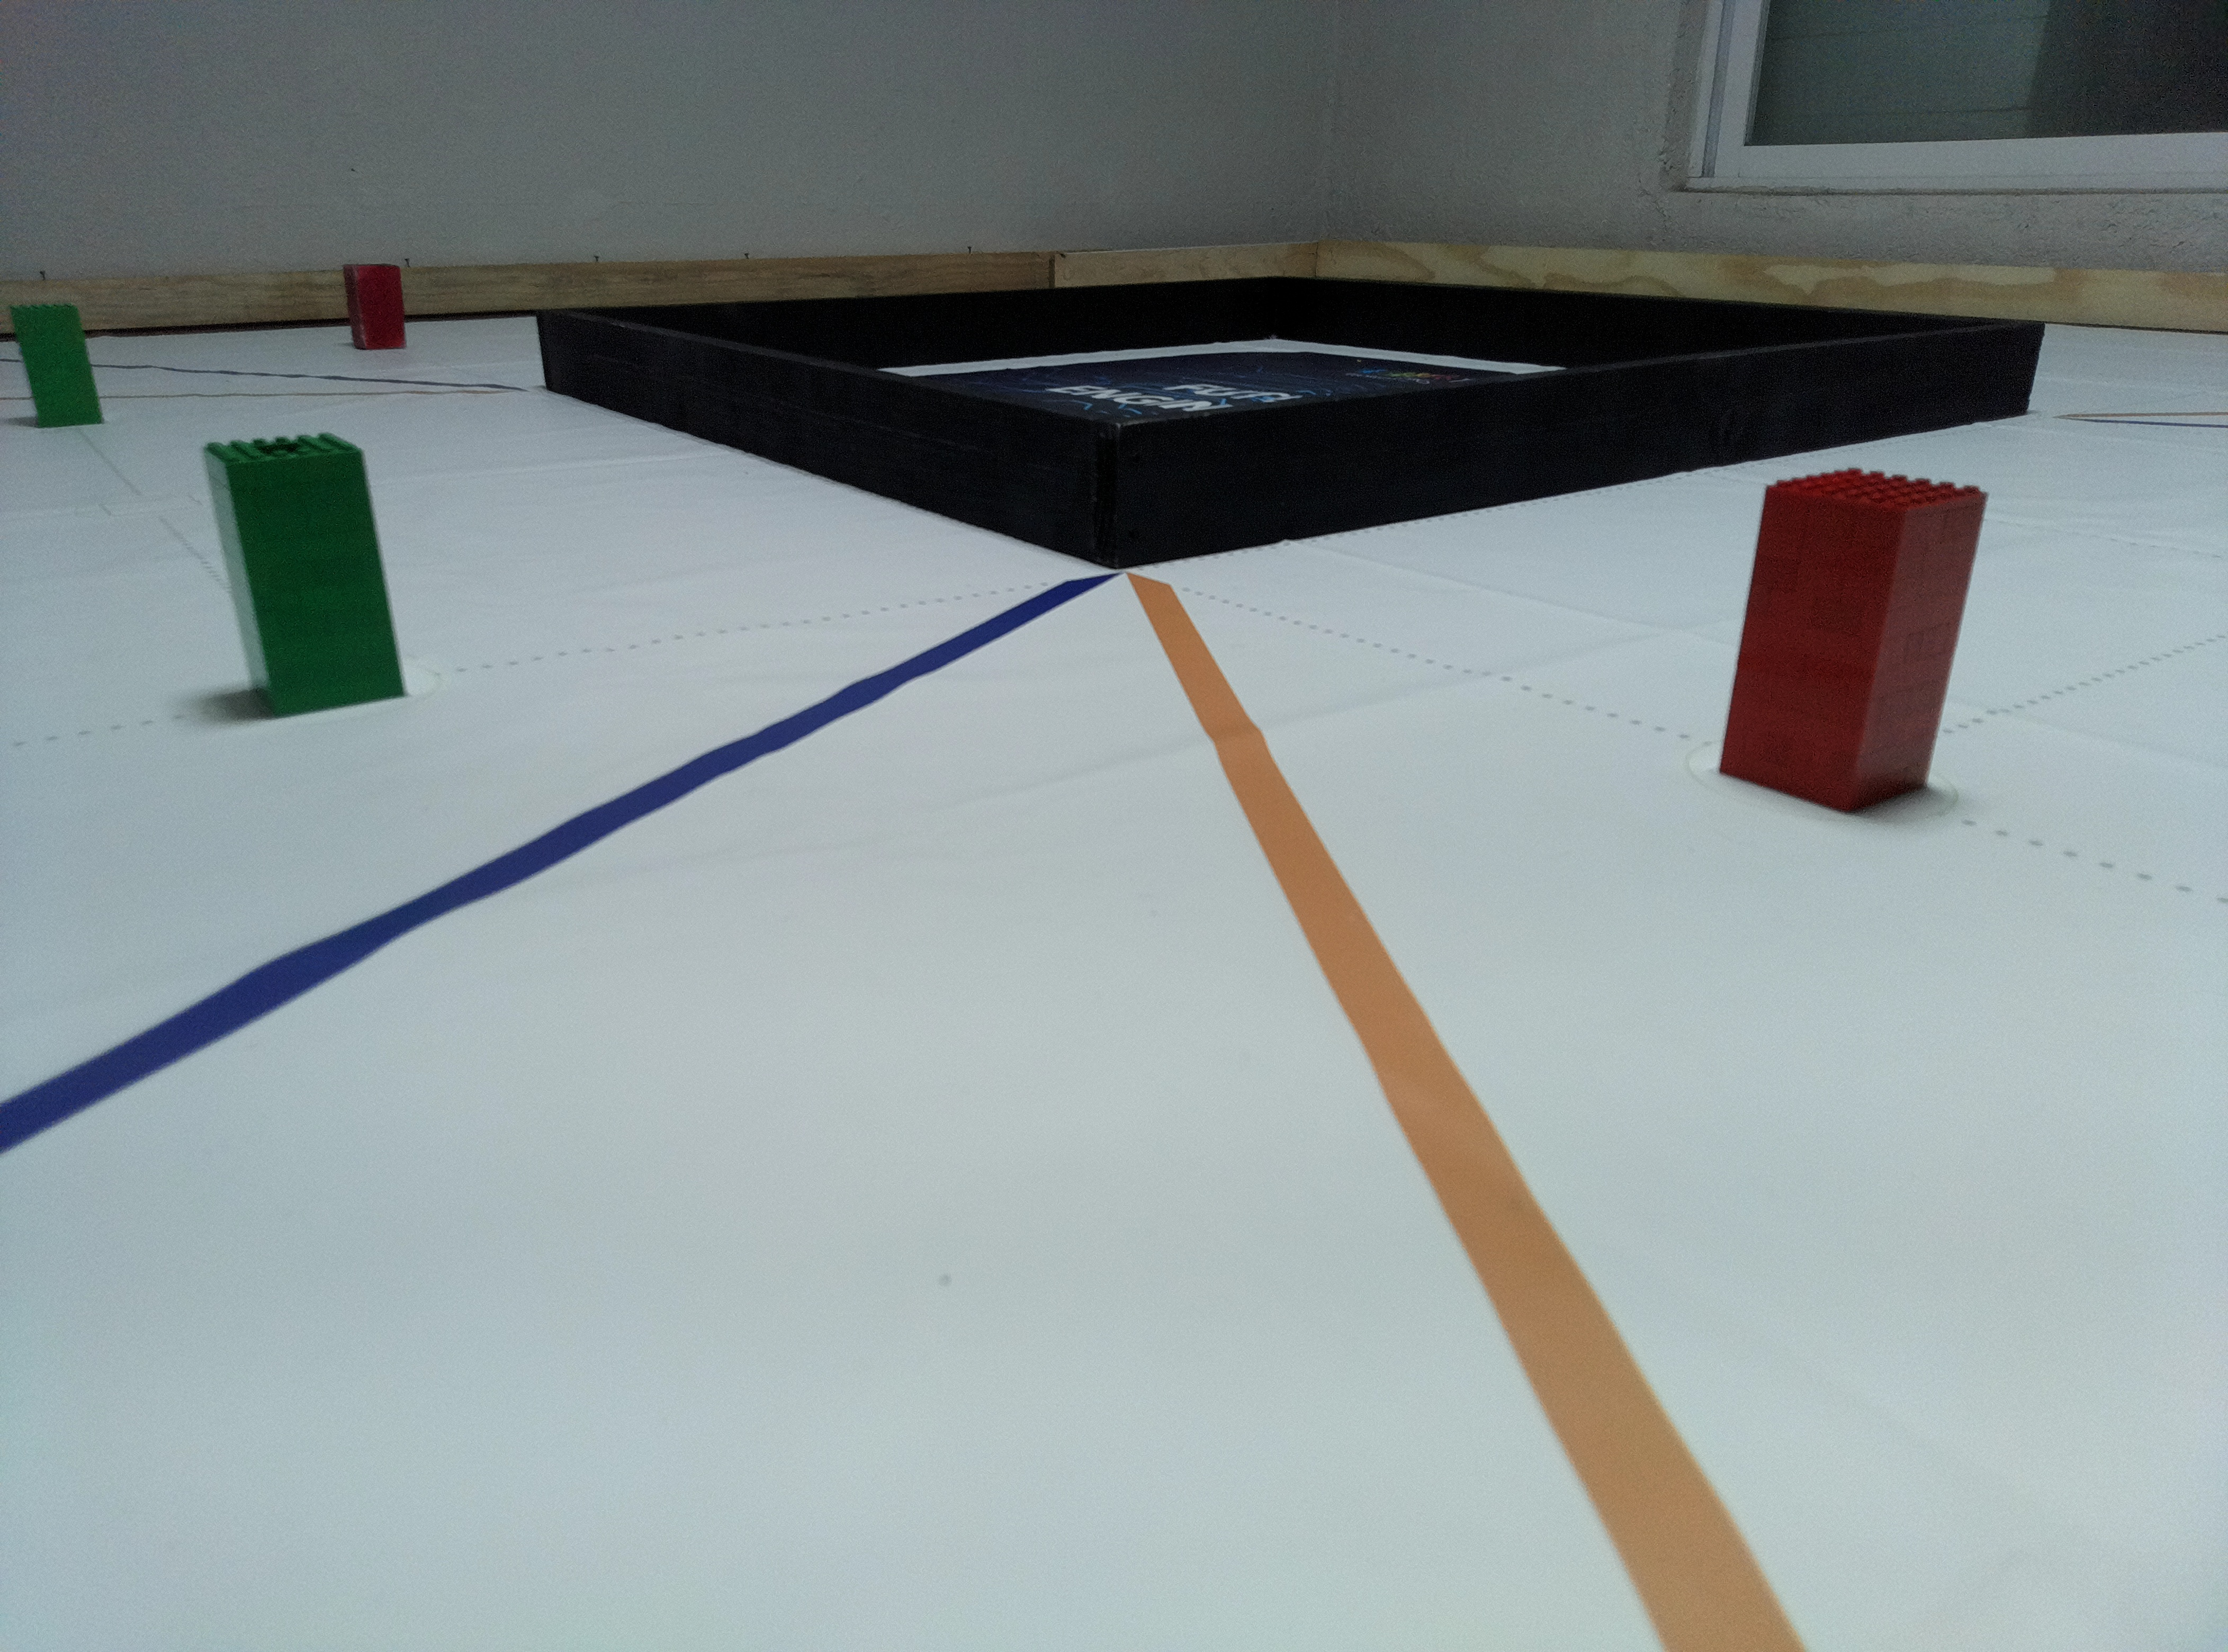greenbox: (200, 427, 408, 722), (9, 302, 113, 430)
redbox: (1714, 469, 1989, 817), (340, 262, 410, 351)
